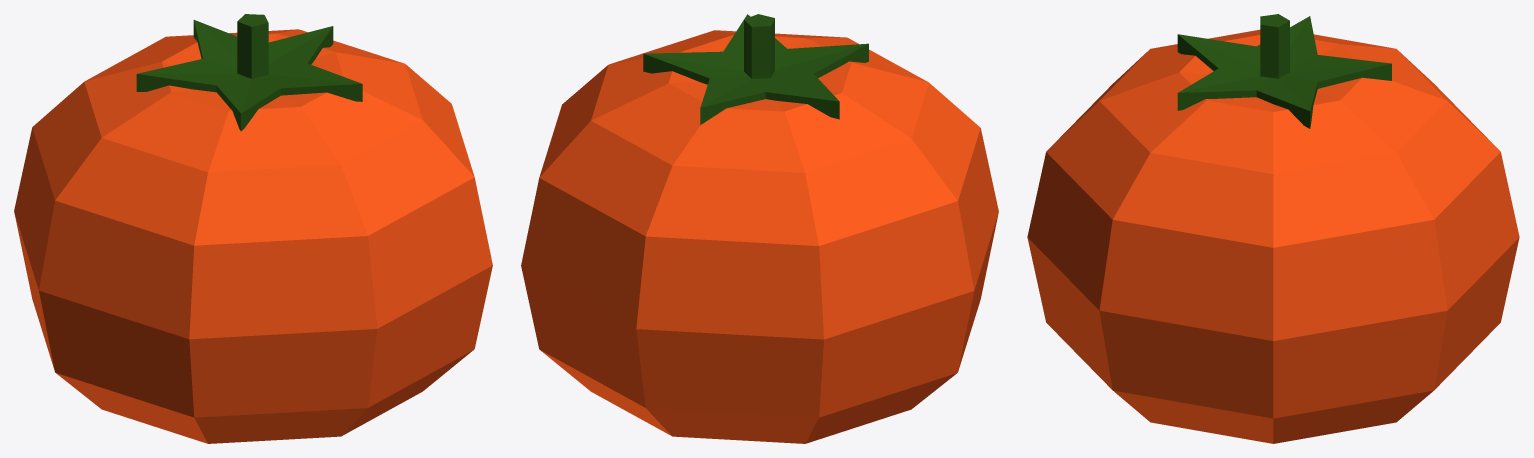
Rendered from tomato_3d.glb.
3 views of the same model, side by side, from view 1: azimuth 30°, elevation 25°; view 2: azimuth 150°, elevation 25°; view 3: azimuth 270°, elevation 25° (orthographic).
Parts seen in each view (by area): view 1: tomato_full; view 2: tomato_full; view 3: tomato_full.
Part boxes in pixels (x1,y1,x2,y2): tomato_full: (14,14,492,443); tomato_full: (521,14,998,443); tomato_full: (1027,14,1519,443).
Bounding box in the file's own units: 1.55 × 1.3 × 1.55.
